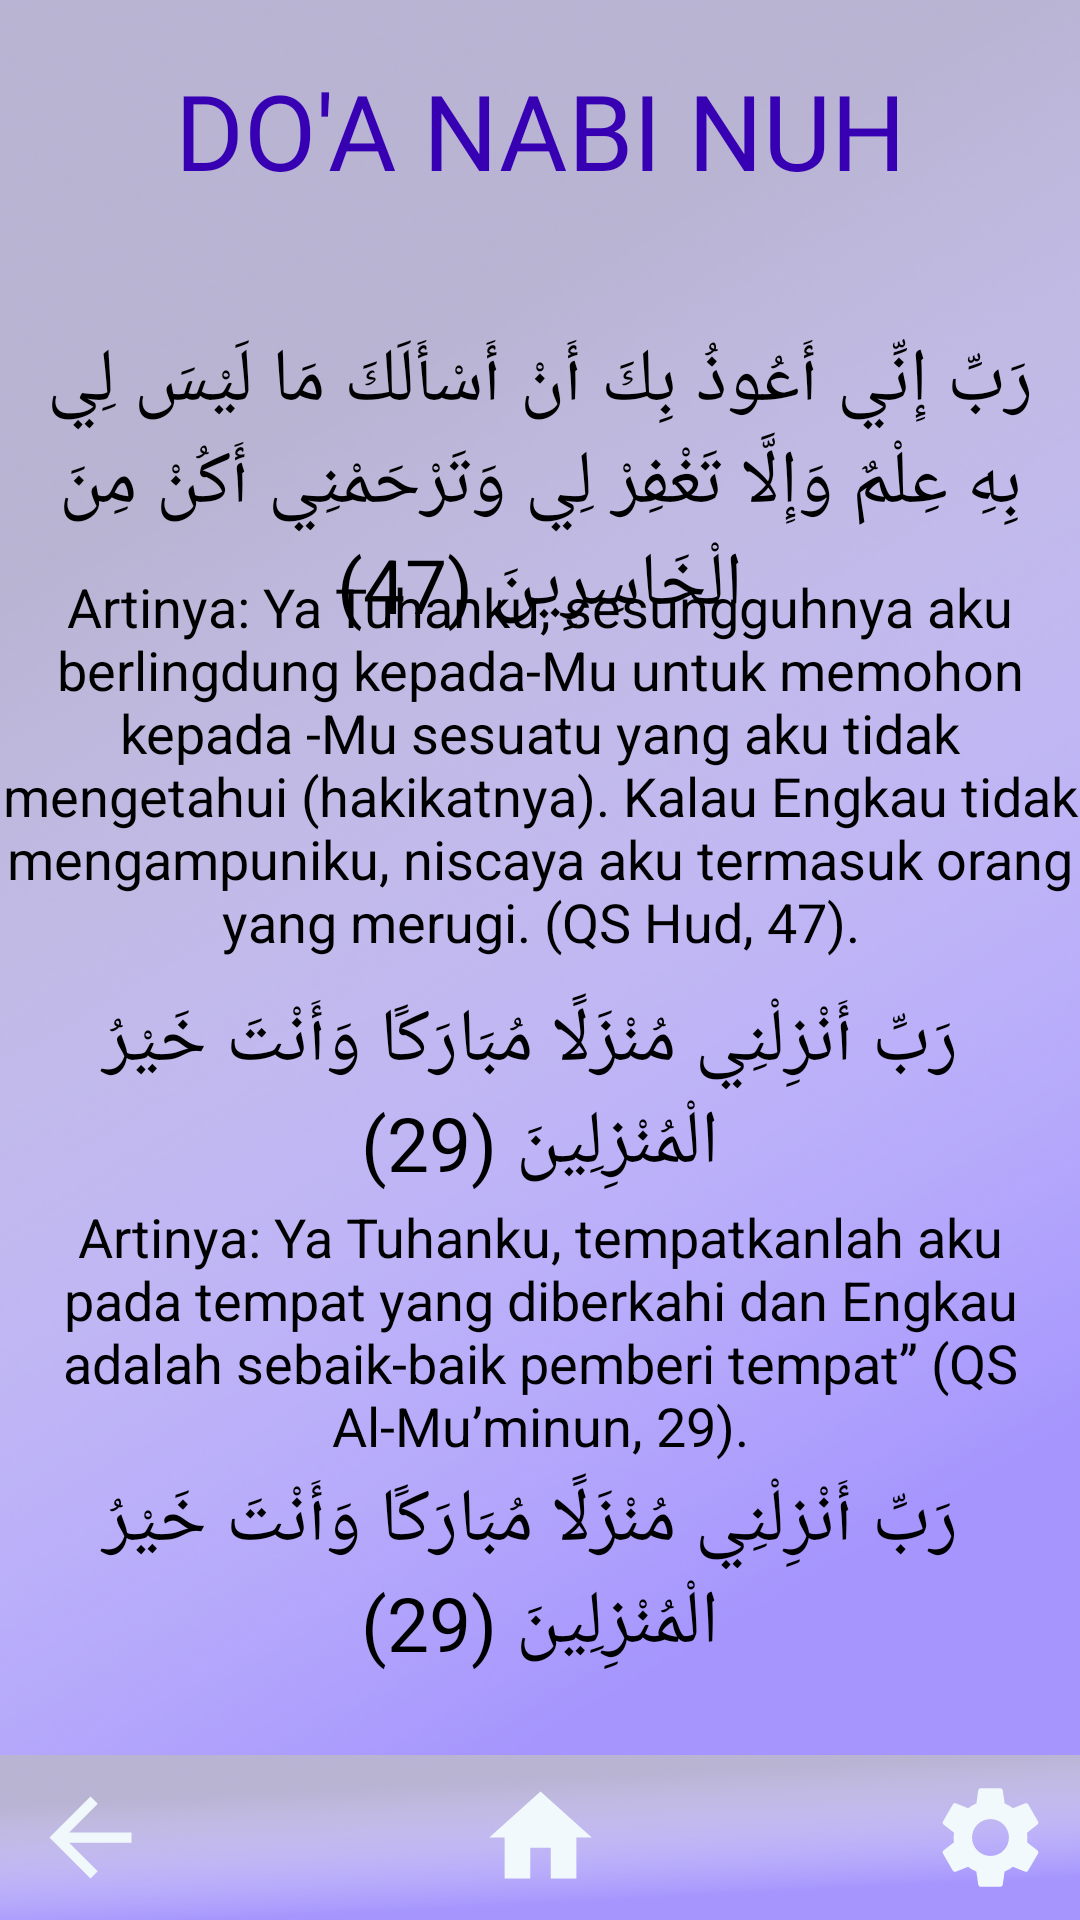

Screen size 1080 x 1920. Icon name, then its center in pixels as (x,y):
arrow back: (90,1837)
home: (540,1837)
settings: (990,1837)
